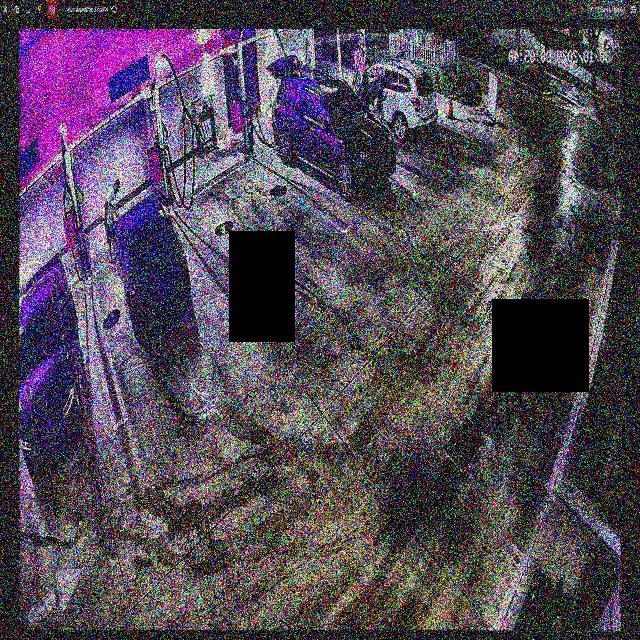Car: (270, 56, 397, 196), (112, 192, 192, 337)
